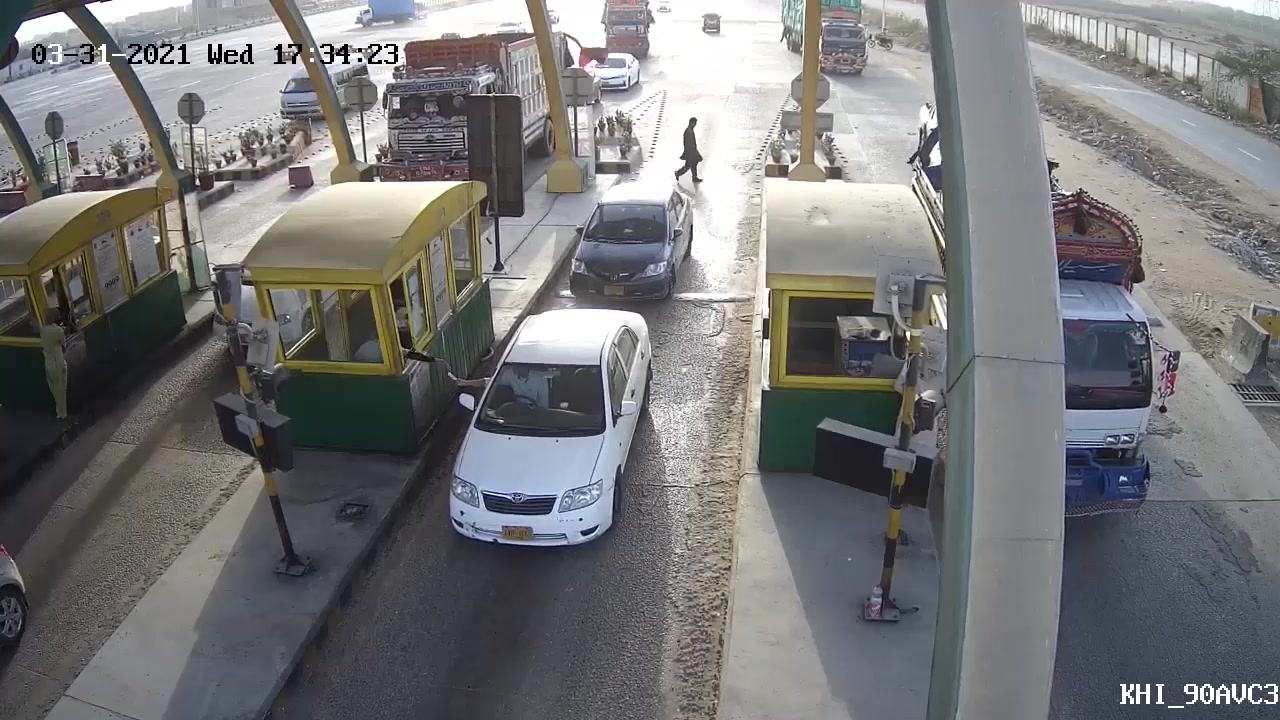F1: (438, 305, 650, 582)
